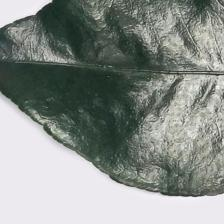healthy: (17, 0, 224, 167)
